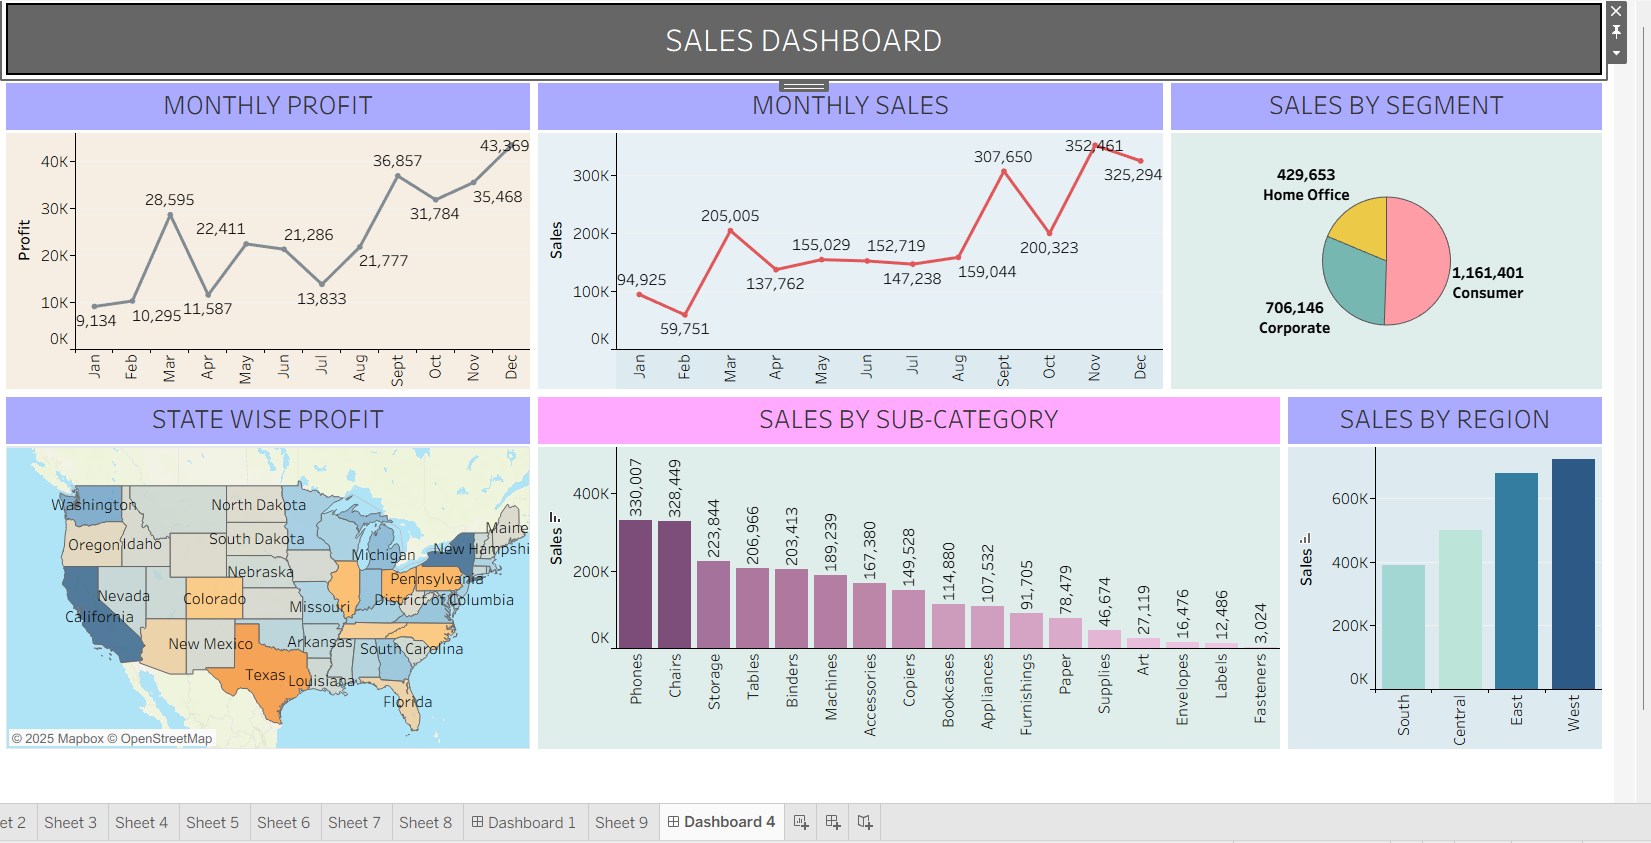

The dashboard page shown, as its layout file describes it:
{"tool":"tableau","page":{"name":"Dashboard 4","canvas":[1000,1000],"units":"permille","ordinal":1},"visuals":[{"type":"title","box":[4.9,8.9,990.1,88.9]},{"type":"worksheet","title":"Sheet 8","mark":"Automatic","rows":["Profit"],"cols":["Order Date"],"box":[4.9,97.8,328.4,348.9]},{"type":"worksheet","title":"Sheet 7","mark":"Automatic","rows":["Sales"],"cols":["Order Date"],"box":[333.3,97.8,390.7,348.9]},{"type":"worksheet","title":"Sheet 2","mark":"Pie","box":[724.1,97.8,271,348.9]},{"type":"worksheet","title":"Sheet 5","mark":"Automatic","box":[4.9,446.7,328.4,400]},{"type":"worksheet","title":"Sheet 1","mark":"Automatic","rows":["Sales"],"cols":["Sub-Category"],"box":[333.3,446.7,463,400]},{"type":"worksheet","title":"Sheet 9","mark":"Automatic","rows":["Sales"],"cols":["Region"],"box":[796.3,446.7,198.7,400]}]}

Visuals, with their boxes on the dashboard's canvas, which has no fixed pixel size, in thousandths of its width and height (x1, y1, x2, y2). These are canvas units, not pixel positions in the 1651x843 screenshot, which may show the page scaled, cropped or inside an application window:
title: 5, 9, 995, 98
"Sheet 8" worksheet: 5, 98, 333, 447
"Sheet 7" worksheet: 333, 98, 724, 447
"Sheet 2" worksheet (Pie marks): 724, 98, 995, 447
"Sheet 5" worksheet: 5, 447, 333, 847
"Sheet 1" worksheet: 333, 447, 796, 847
"Sheet 9" worksheet: 796, 447, 995, 847
